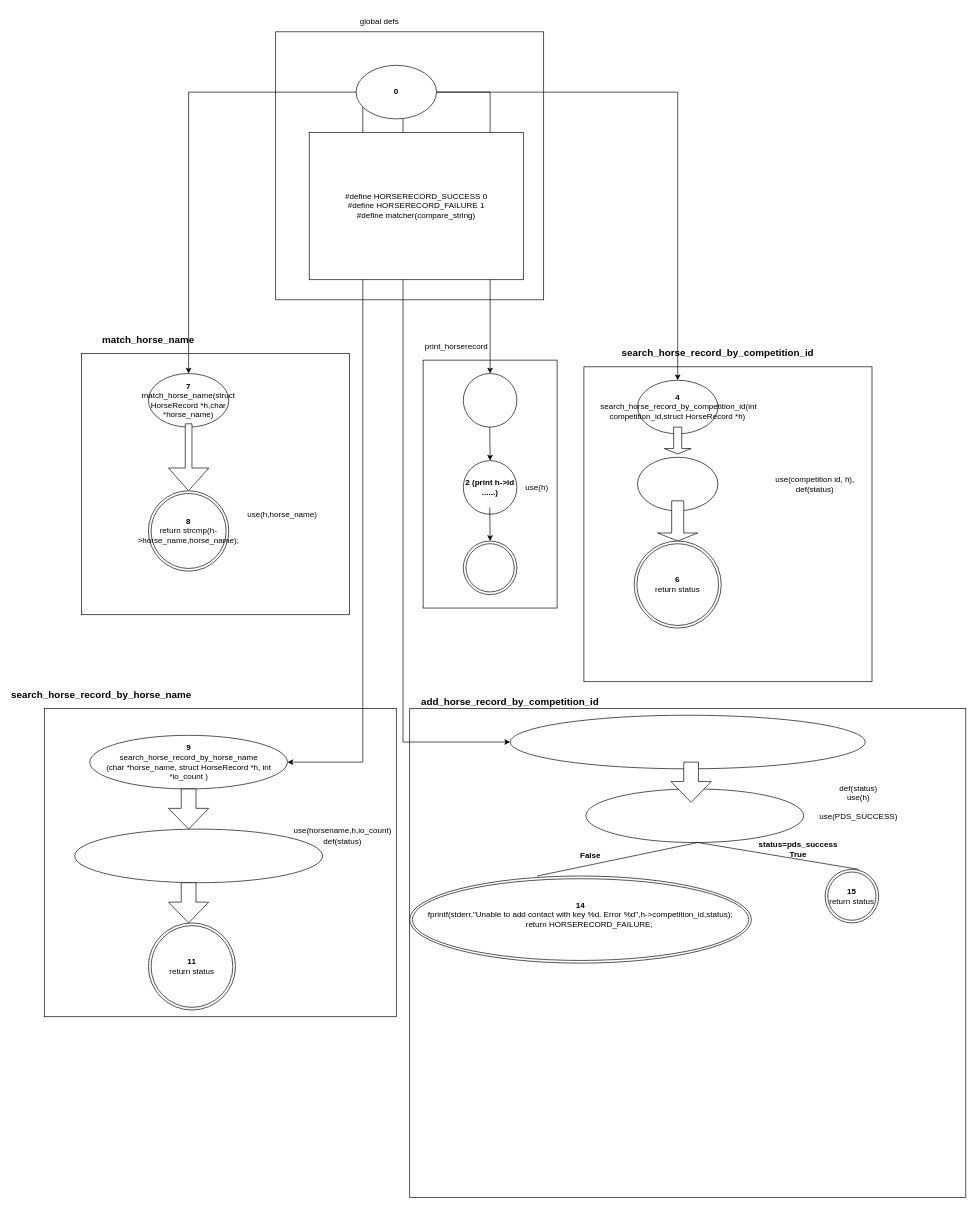
This 978x1209 diagram has some shape labels left out. Here are the shapes that lost their labels. From the top down, the centre of each, then its label:
At point (490, 400): "1 . print_horse_record(struct HorseRecord *h)".
At point (677, 484): "5 status=get_rec_by_ndx_key(competition_id,h);".
At point (490, 567): "3 return".
At point (687, 742): "12 add_horse_record_by_competition_id(struct HorseRecord *h)".
At point (694, 815): "13 status=put_rec_by_key(h->competition_id,h);".
At point (198, 855): "10 status=get_rec_by_non_ndx_key(horse_name,h,match_horse_name,io_count);".
